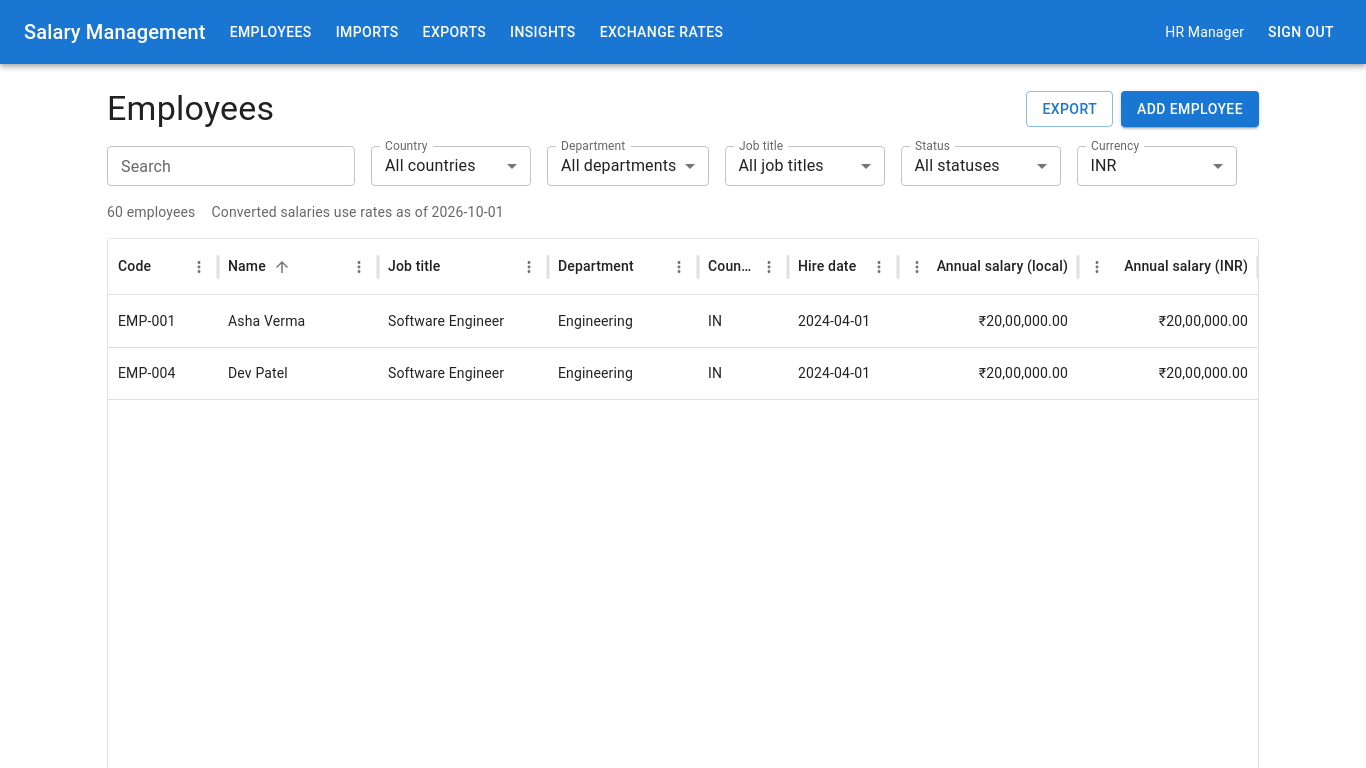
Test case: employees list page › shows salaries in the chosen currency
expect the text "Asha Verma" is shown: met, box 228,313 -> 305,329
Click the dropdown named "Currency" at (1104, 166), box 1090,156 -> 1117,176
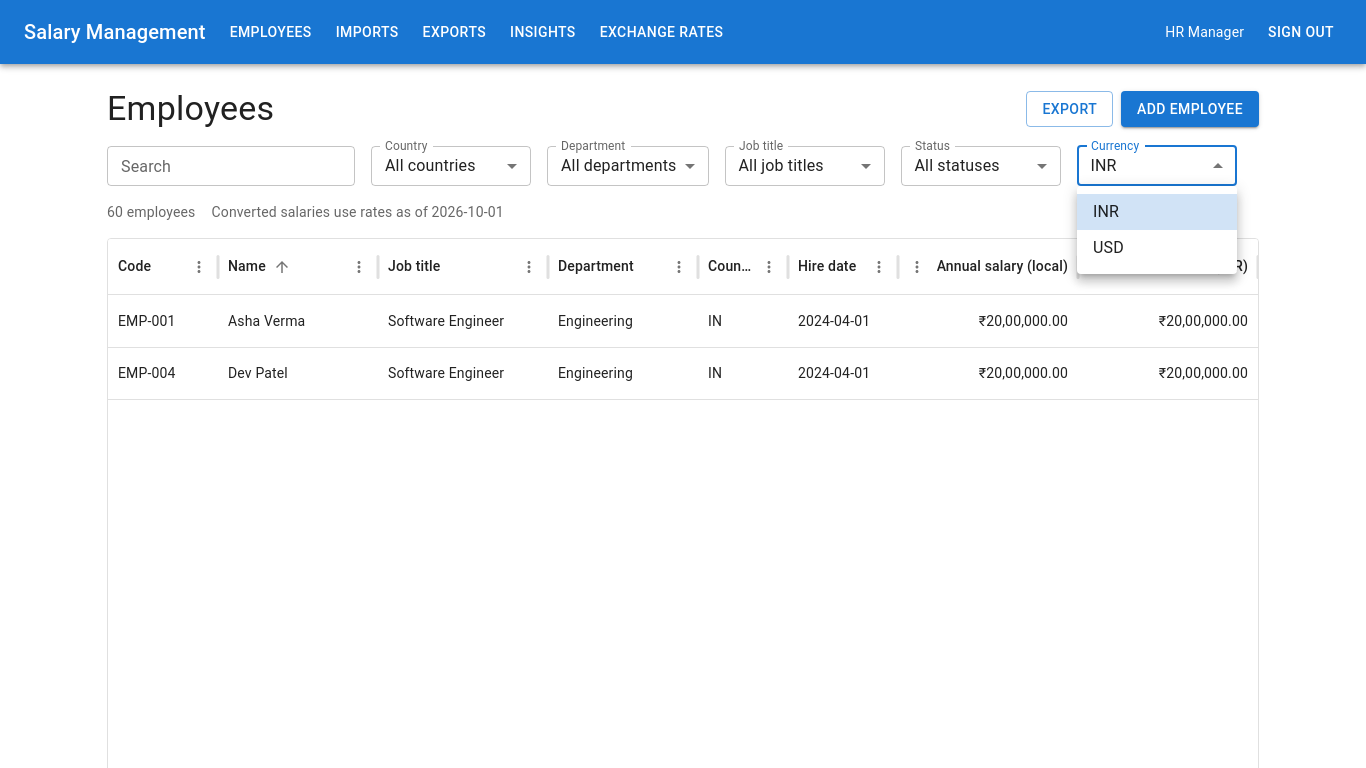
Click the option "USD" at (1108, 248), box 1093,238 -> 1124,257
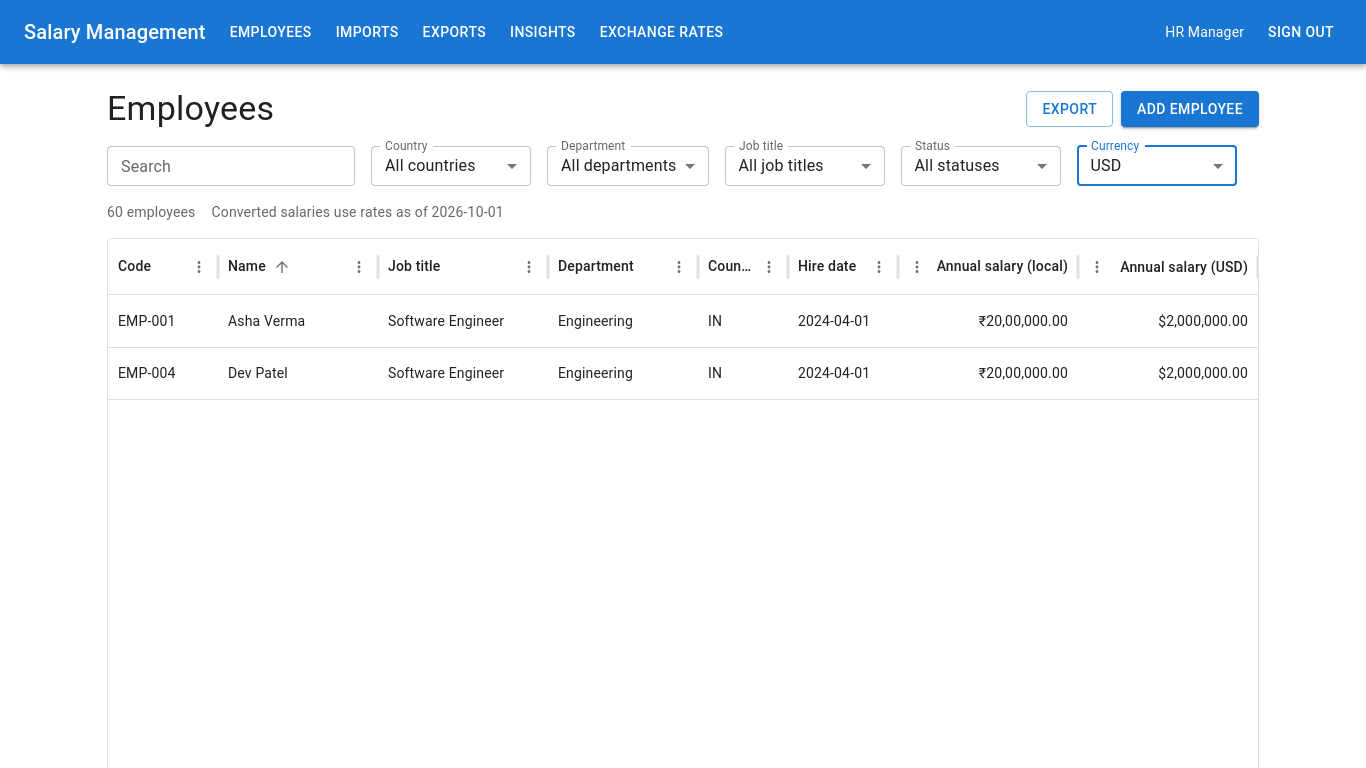
expect the text "Annual salary (USD)" is shown: met, box 1120,258 -> 1248,274
